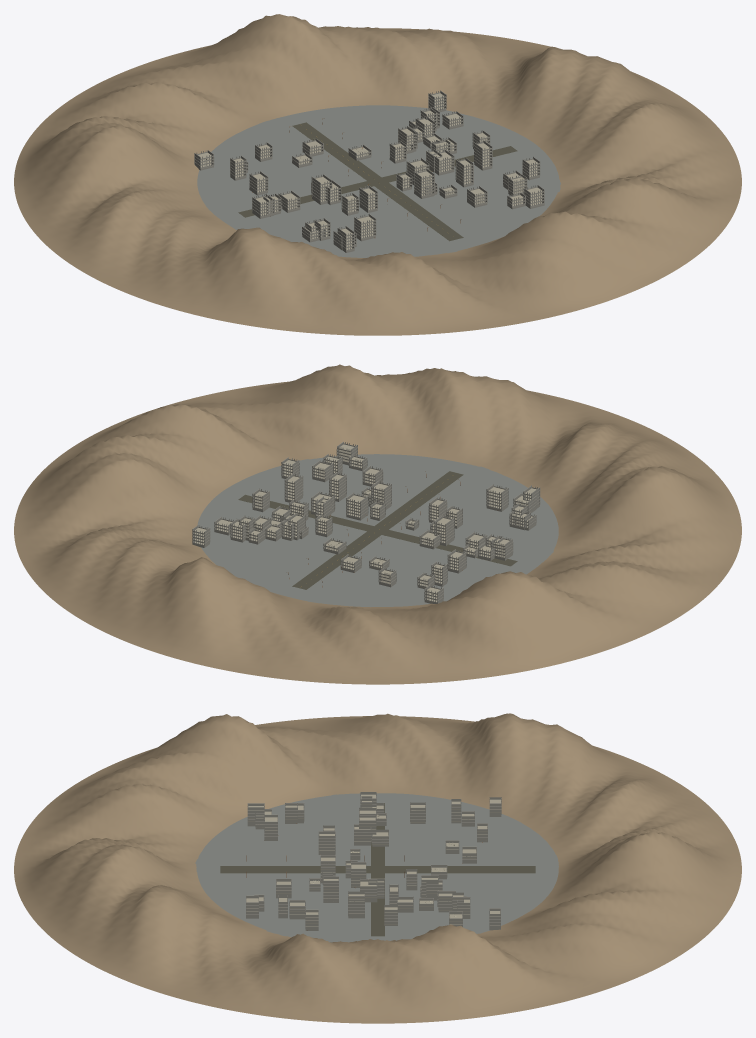
Rendered from city.glb.
3 renders of one model, top to bottom at view 1: azimuth 30°, elevation 25°; view 2: azimuth 150°, elevation 25°; view 3: azimuth 270°, elevation 25°, orthographic.
Visible parts, largest first — view 1: static_environment.001; view 2: static_environment.001; view 3: static_environment.001.
Boxes of the visible parts, bbox=[...] form: static_environment.001: bbox=[14, 14, 741, 335]; static_environment.001: bbox=[14, 364, 741, 684]; static_environment.001: bbox=[14, 713, 741, 1023].
Size of the model in its own units: 832 by 72.5 by 832.
